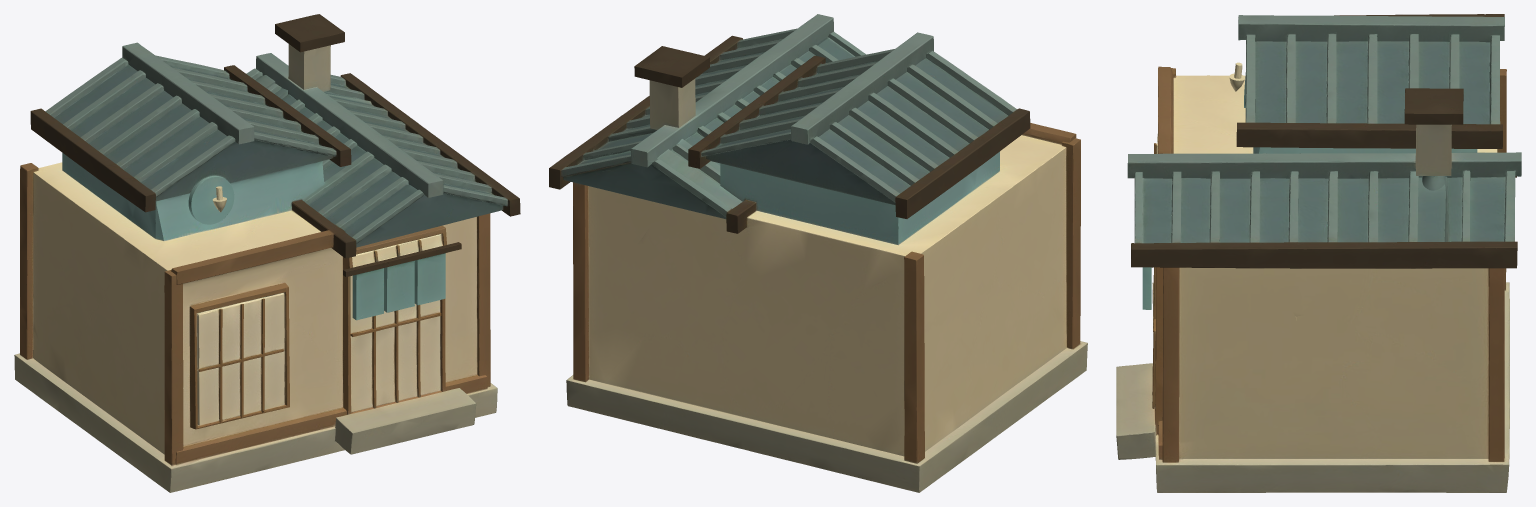
The picture shows the model from 3 angles, left to right: view 1: azimuth 30°, elevation 25°; view 2: azimuth 150°, elevation 25°; view 3: azimuth 270°, elevation 25°; orthographic projection. The views are drawn at different scales.
Visible parts, largest first — view 1: model; view 2: model; view 3: model.
Part boxes in pixels (<box>): model: <box>14,14,520,492</box>; model: <box>549,14,1087,492</box>; model: <box>1116,14,1521,492</box>.
Size of the model in its own units: 1.9 by 1.67 by 1.72.
1 material, 1 textured.
